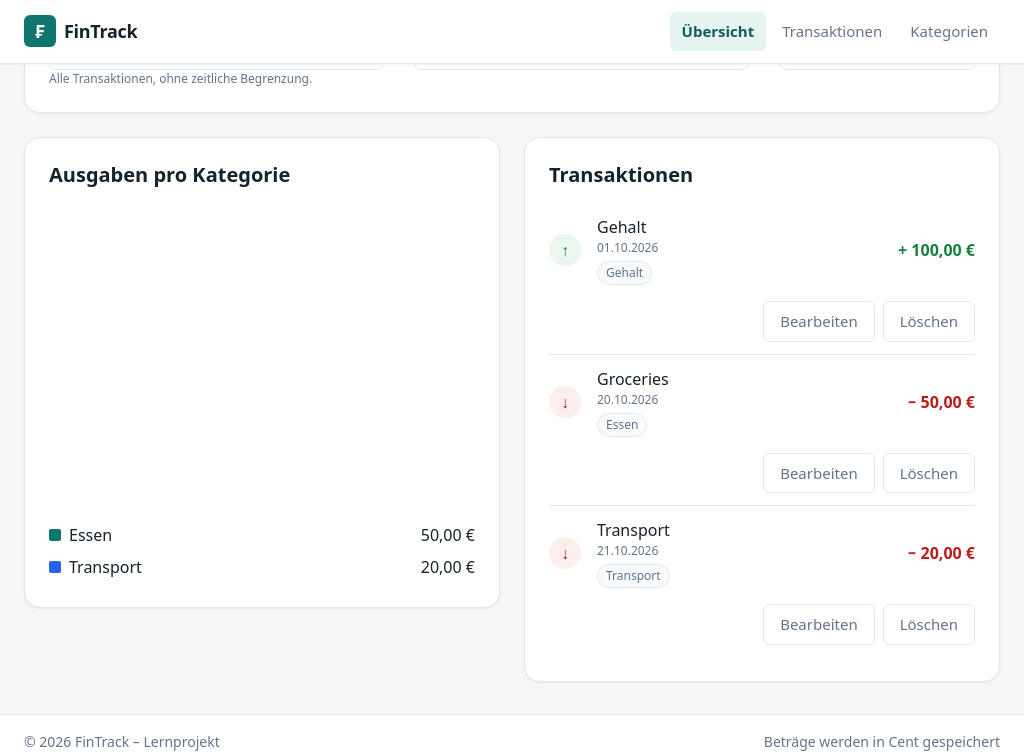
Test: shared transaction filters › prefills an existing transaction and cancels without changing any data
The width and height of the screenshot is (1024, 756).
(page scrolled)
Click the button with aria-label "Groceries vom 20.10.2026, 50,00 € bearbeiten". click: (819, 473)
box: top-left (763, 452), bottom-right (875, 493)
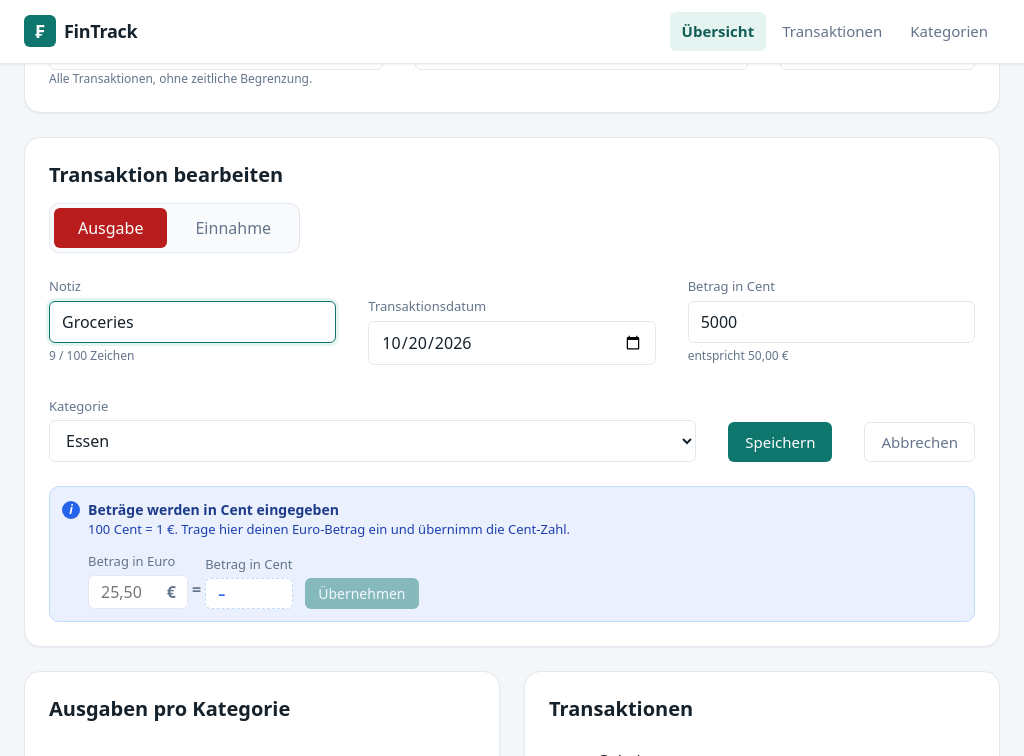
Result: the field labelled "Notiz" holds "Groceries"
Result: the date field labelled "Transaktionsdatum" holds "2026-10-20" at top-left (368, 320), bottom-right (656, 364)
Result: the field labelled "Betrag in Cent" holds "5000" at top-left (688, 300), bottom-right (975, 342)
Replace the text in the field labelled "Notiz" with "Unsaved change". click: (193, 322)
box: top-left (49, 300), bottom-right (336, 342)
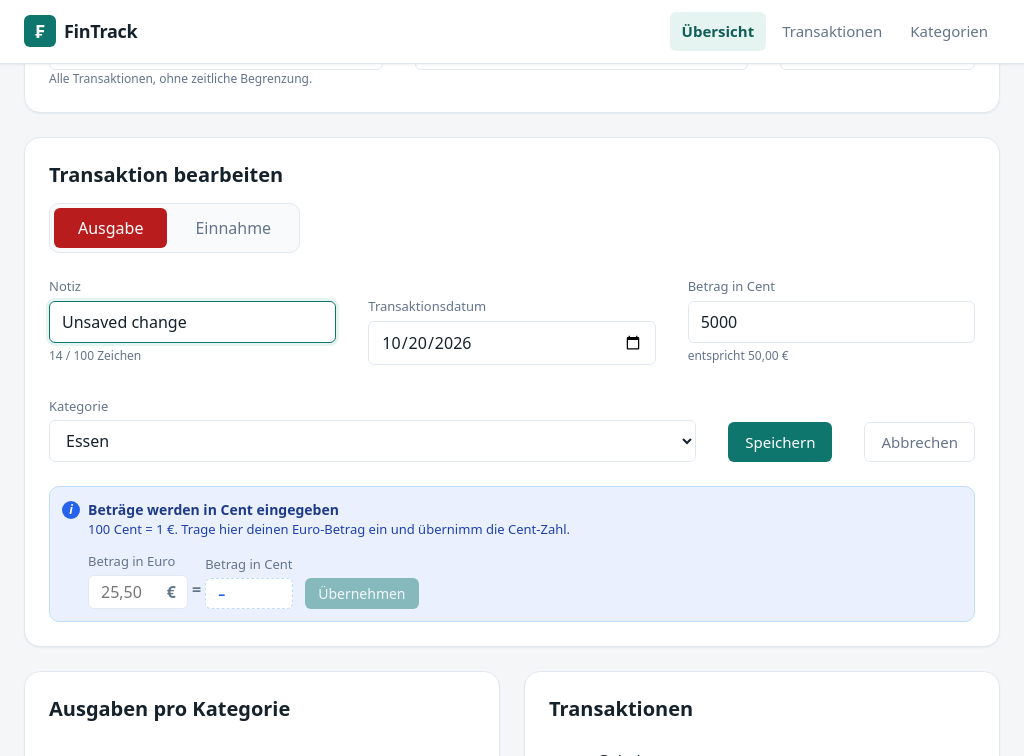
Replace the text in the field labelled "Betrag in Cent" with "100". click: (831, 322)
box: top-left (688, 300), bottom-right (975, 342)
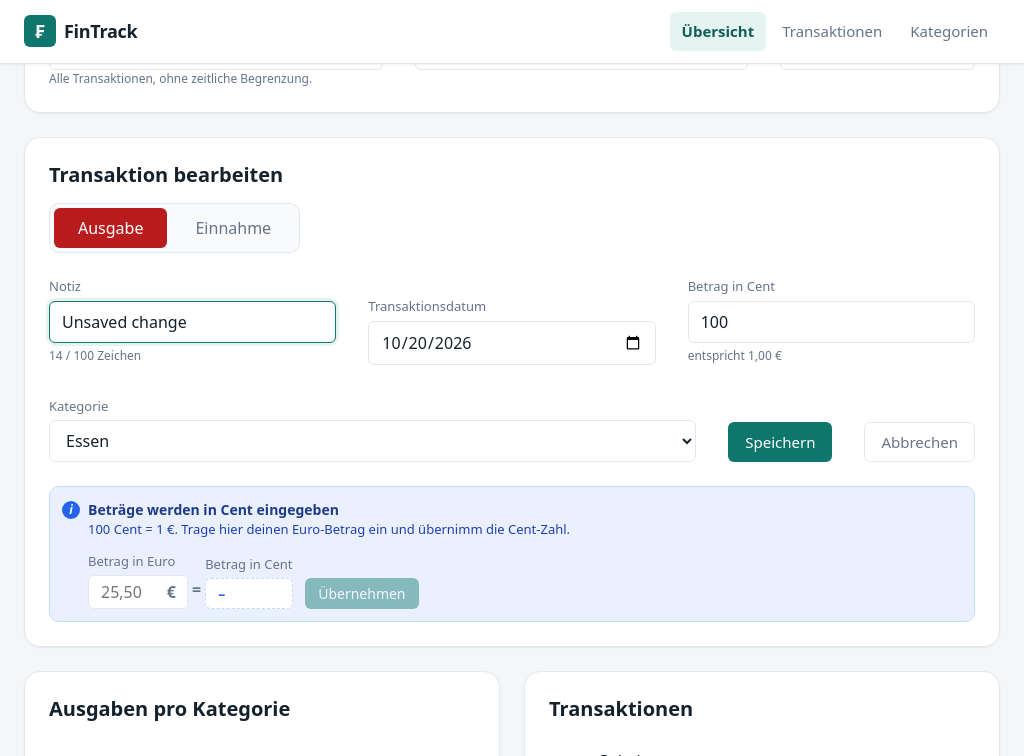
Click the button "Abbrechen". click: (920, 442)
box: top-left (864, 422), bottom-right (975, 462)
(page scrolled)
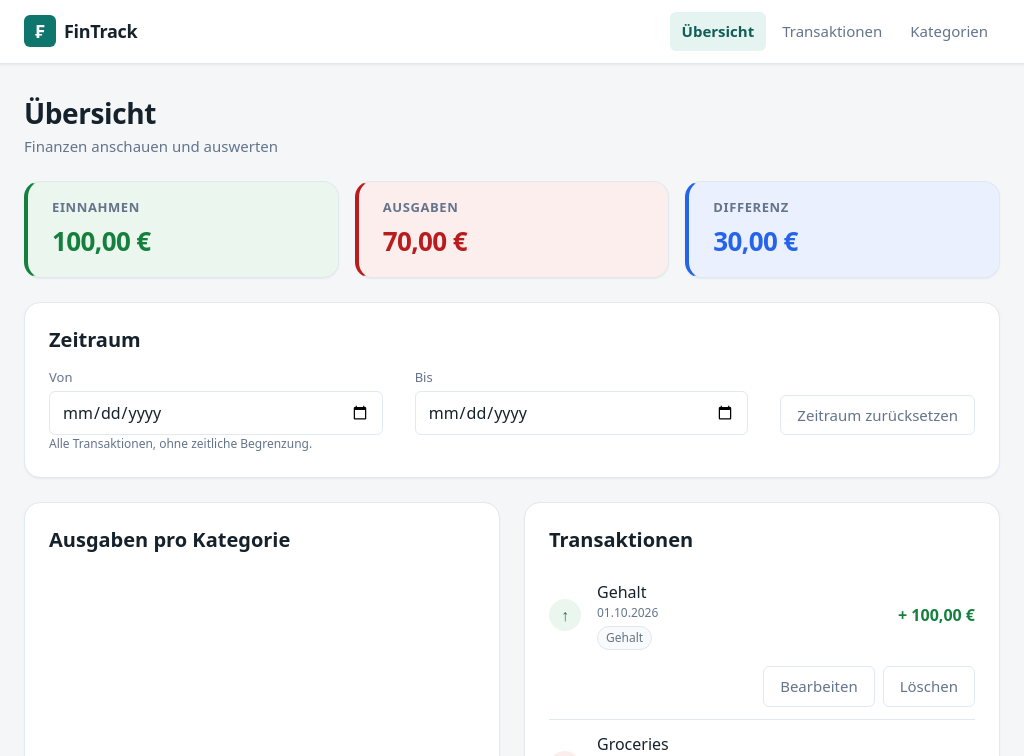
Expected: the text "Unsaved change" is not shown
Result: the heading "Transaktion bearbeiten" is gone
